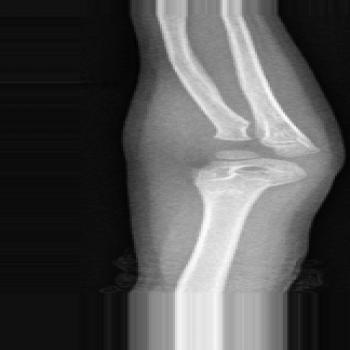Fracture: (188, 128, 266, 162)
